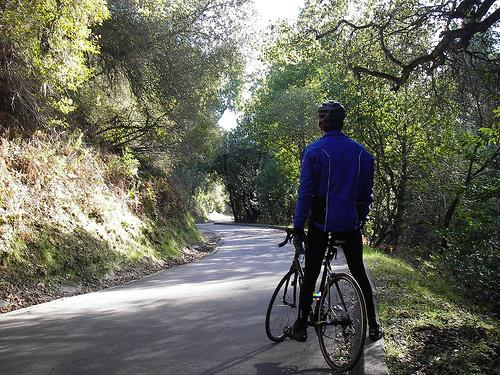car: (262, 220, 372, 372)
person: (283, 99, 389, 350)
person/foot: (283, 326, 308, 342), (369, 329, 385, 339)
person/hand: (293, 231, 307, 254)
person/head: (319, 101, 346, 133)
